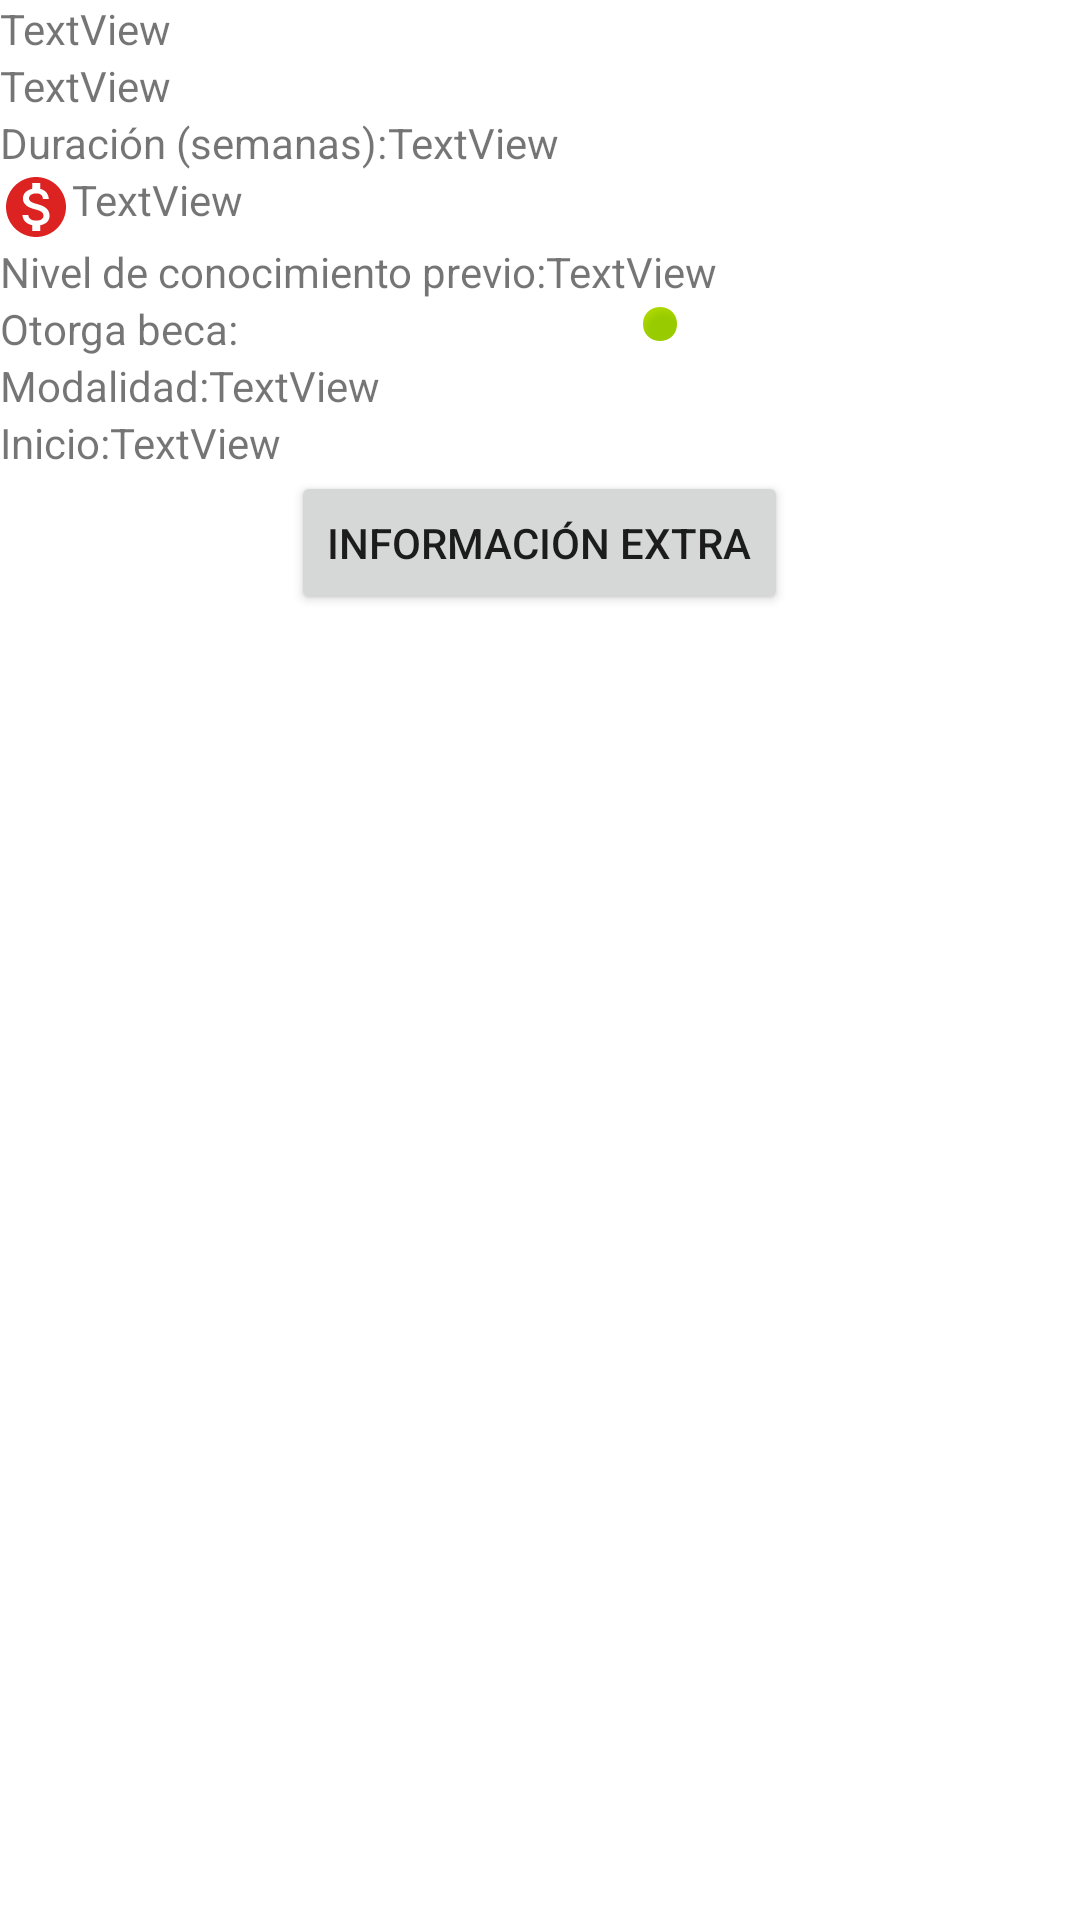

Point at icon controls on the screen. Image size 1080px×1920px, points as (x,y).
monetization on: (36,207)
presence online: (660,324)
